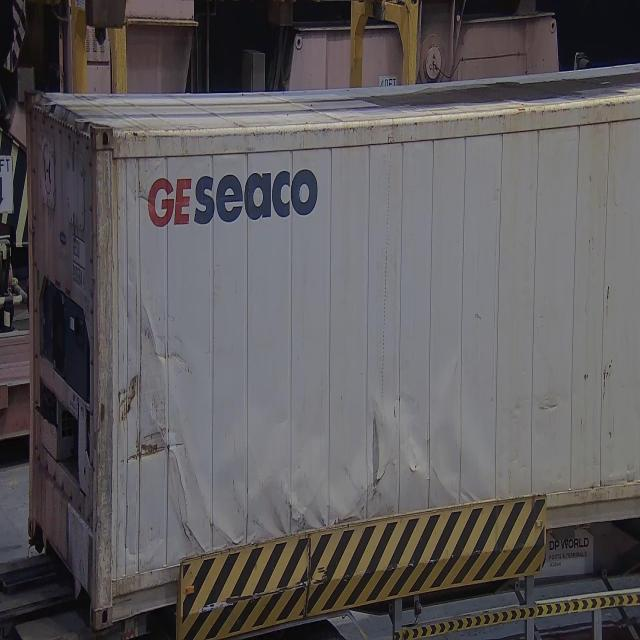dent: (124, 361, 206, 551), (249, 481, 342, 535), (360, 400, 397, 509)
